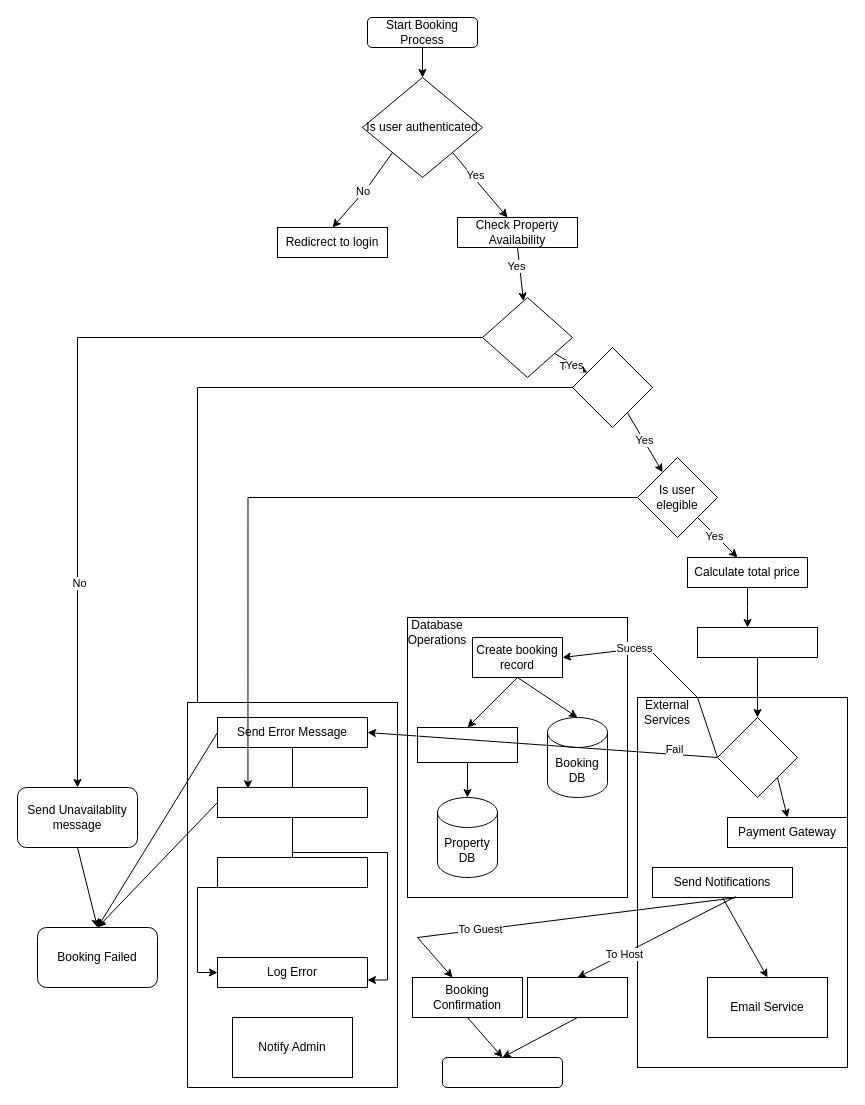
Image size: 865x1105. Some labels were removed from this diagram. Each missing label, with the centre of its shape:
Are dates available: the point at 612,387
Booking completed: the point at 502,1072
Initialize Price: the point at 757,642
Is property available?: the point at 527,337
Process Payment: the point at 757,757
Send booking Alert: the point at 577,997
Send Eligibility Error: the point at 292,802
Send Payment Error: the point at 292,872
Update property availability: the point at 467,744
